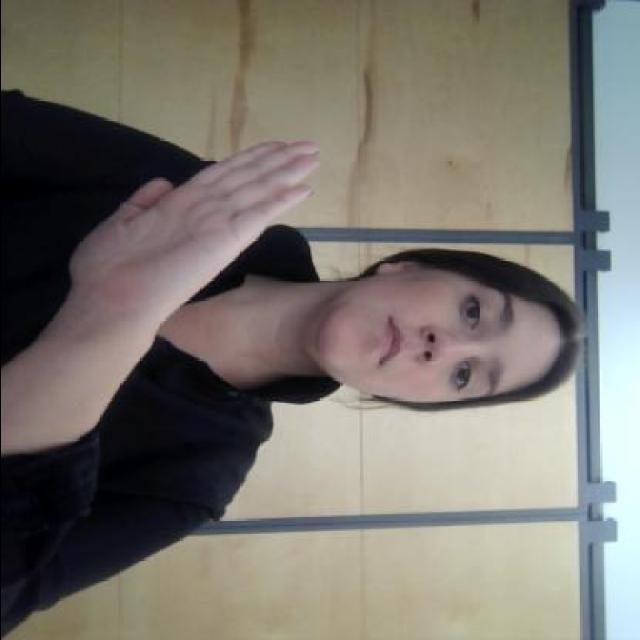Paper: (65, 126, 323, 329)
